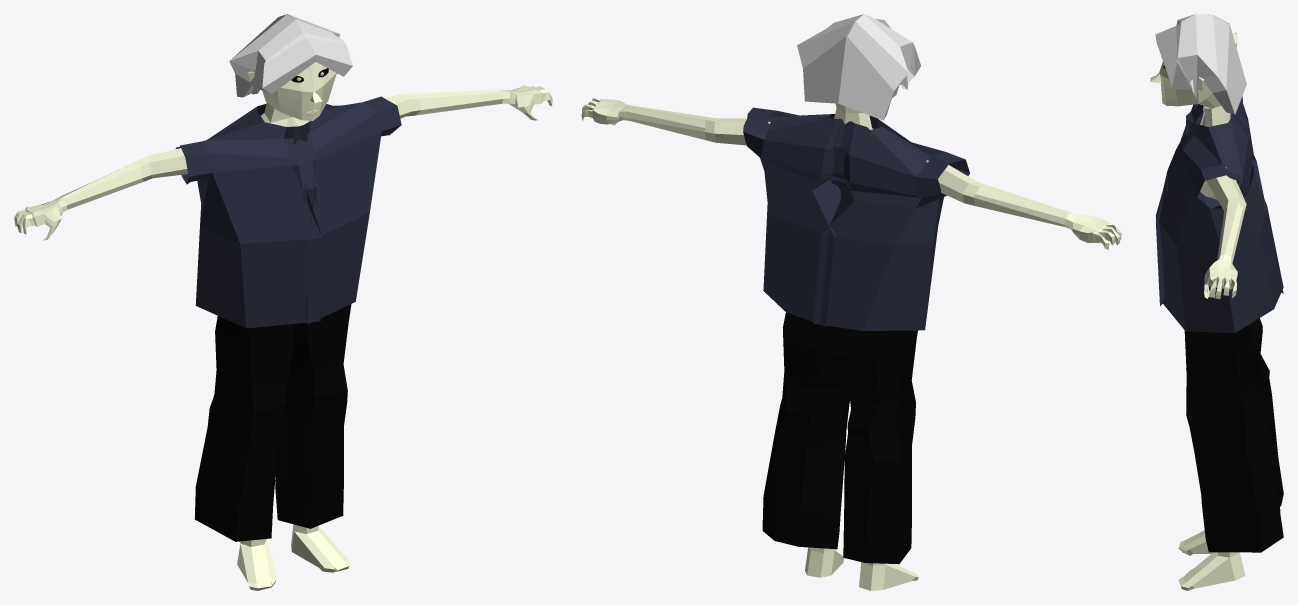
Rendered from PossessedTimmy.fbx.
3 views of the same model, side by side, from view 1: azimuth 30°, elevation 25°; view 2: azimuth 150°, elevation 25°; view 3: azimuth 270°, elevation 25° (orthographic).
Visible parts, largest first — view 1: Cube.001; view 2: Cube.001; view 3: Cube.001.
Boxes of the visible parts, box(x1,y1,x2,y2) form: Cube.001: box(14, 14, 552, 590); Cube.001: box(581, 14, 1121, 590); Cube.001: box(1150, 14, 1283, 590).
Size of the model in its own units: 183 by 183 by 40.
